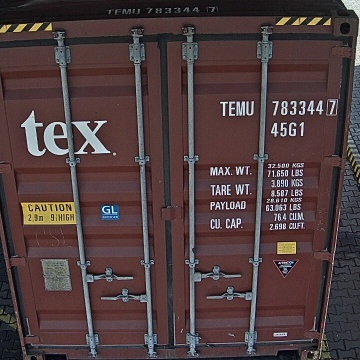serial_id: (221, 99, 337, 115)
